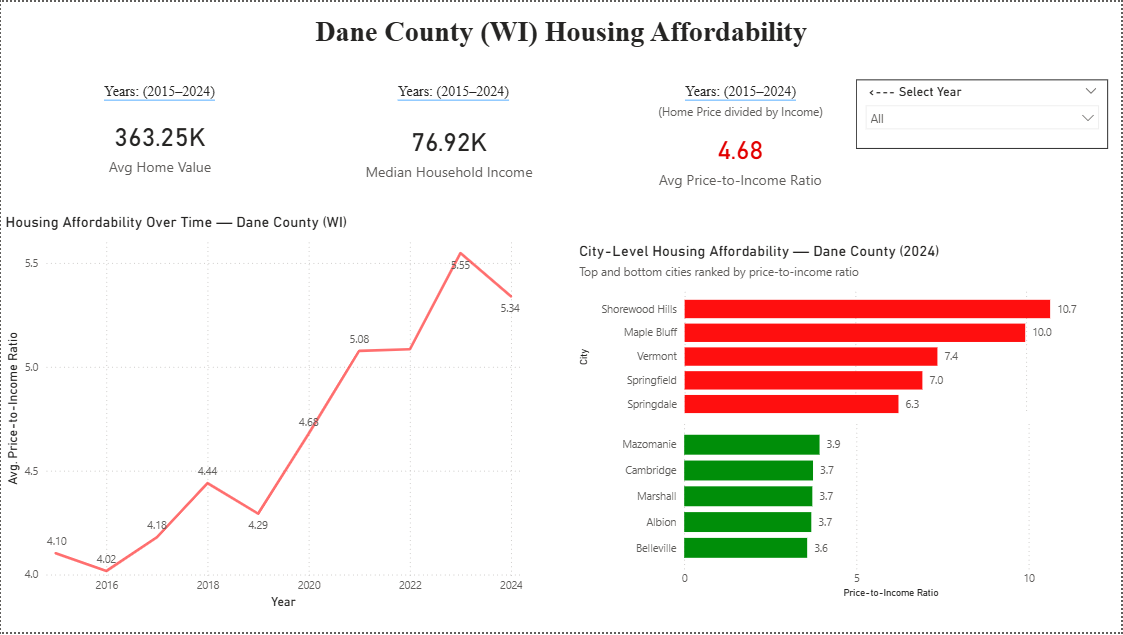

The page's visual inventory and layout, read from the dashboard file:
{"tool":"powerbi","page":{"name":"Dane County (WI)","canvas":[1280,720],"ordinal":3},"visuals":[{"type":"textbox","box":[0,9.6,1280.3,68.6],"z":0},{"type":"card","fields":{"Values":["Avg(finished_dane_county_data.avg_home_value)"]},"box":[0,105.7,363.6,115.3],"z":1000},{"type":"card","fields":{"Values":["Avg(finished_dane_county_data.median_income)"]},"box":[321.1,111.1,381.5,115.3],"z":2000},{"type":"card","fields":{"Values":["Avg(finished_dane_county_data.price_to_income)"]},"box":[655.9,111.1,378.7,109.8],"z":3000},{"type":"slicer","fields":{"Values":["finished_dane_county_data.Year"]},"box":[977,89.2,288.2,79.6],"z":4000},{"type":"textbox","box":[16.5,89.2,328,43.9],"z":5000},{"type":"textbox","box":[730,89.2,230.5,31.6],"z":6000},{"type":"textbox","box":[321.1,89.2,391.1,43.9],"z":7000},{"type":"lineChart","title":"Housing Affordability Over Time — Dane County (WI)","fields":{"Category":["finished_dane_county_data.Year"],"Y":["Avg(finished_dane_county_data.price_to_income)"]},"box":[0,241.5,601,456.9],"z":8000},{"type":"clusteredBarChart","title":"City-Level Housing Affordability — Dane County (2024)","fields":{"Category":["finished_dane_county_data.City"],"Y":["Avg(finished_dane_county_data.price_to_income)"]},"box":[655.9,274.4,585.9,236],"z":9000},{"type":"clusteredBarChart","fields":{"Category":["finished_dane_county_data.City"],"Y":["Avg(finished_dane_county_data.price_to_income)"]},"box":[699.8,470.7,565.4,216.8],"z":10000}]}

Visuals, with their boxes in screenshot pixels (x1, y1, x2, y2), scaled from the page's 1280x720 canvas onto the 1123x635 screenshot:
textbox: box(0, 8, 1122, 69)
card - Avg(finished_dane_county_data.avg_home_value): box(0, 93, 319, 195)
card - Avg(finished_dane_county_data.median_income): box(282, 98, 616, 200)
card - Avg(finished_dane_county_data.price_to_income): box(575, 98, 908, 195)
slicer - finished_dane_county_data.Year: box(857, 79, 1110, 149)
textbox: box(14, 79, 302, 117)
textbox: box(640, 79, 843, 107)
textbox: box(282, 79, 625, 117)
"Housing Affordability Over Time — Dane County (WI)" lineChart: box(0, 213, 527, 616)
"City-Level Housing Affordability — Dane County (2024)" clusteredBarChart: box(575, 242, 1089, 450)
clusteredBarChart - finished_dane_county_data.City x Avg(finished_dane_county_data.price_to_income): box(614, 415, 1110, 606)
